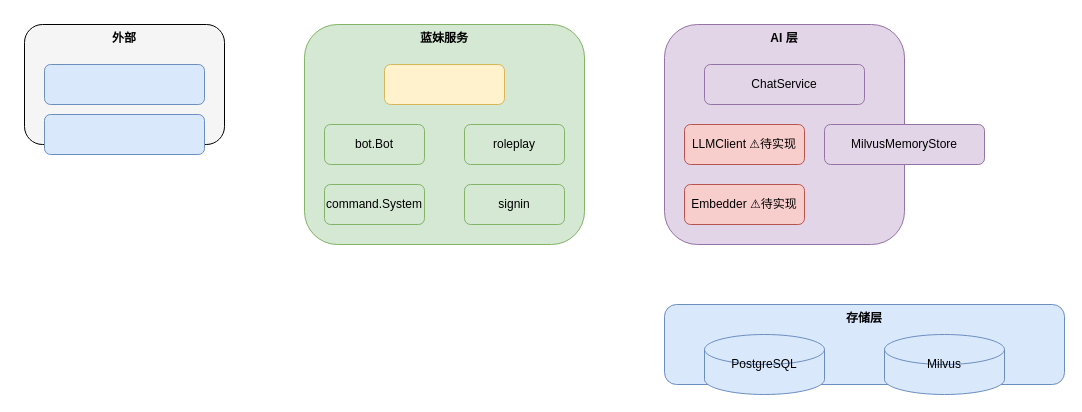
Image size: 1082x412. Some labels were removed from this diagram. Each missing label, with the centre of its shape:
LLOneBot: point 124,134
main.go: point 444,84
QQ 客户端: point 124,84
